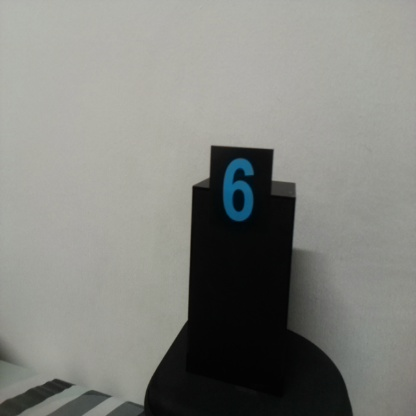id_6: (211, 147, 274, 252)
